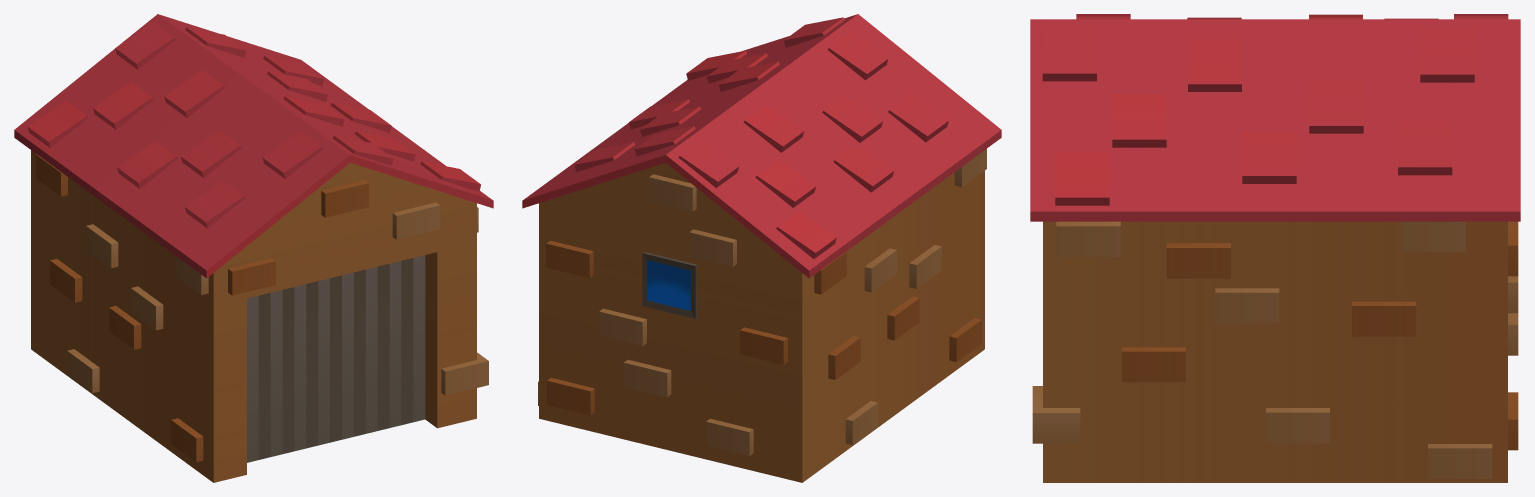
Rendered from SM_Garrage_2.FBX.
3 renders of one model, left to right at view 1: azimuth 30°, elevation 25°; view 2: azimuth 150°, elevation 25°; view 3: azimuth 270°, elevation 25°, orthographic. The views are drawn at different scales.
Parts seen in each view (by area): view 1: SM_Garrage_2; view 2: SM_Garrage_2; view 3: SM_Garrage_2.
Part boxes in pixels (box(x1,y1,x2,y2)): SM_Garrage_2: box(14, 14, 493, 482); SM_Garrage_2: box(522, 14, 1001, 482); SM_Garrage_2: box(1030, 14, 1520, 482).
Size of what is drawn, in the model's own units: 381 by 443 by 381.
